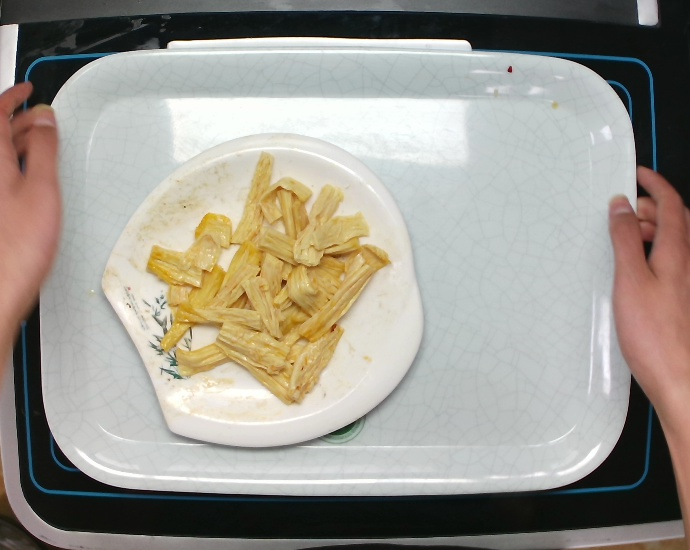JYsf-Mian_Pan: (97, 127, 427, 451)
